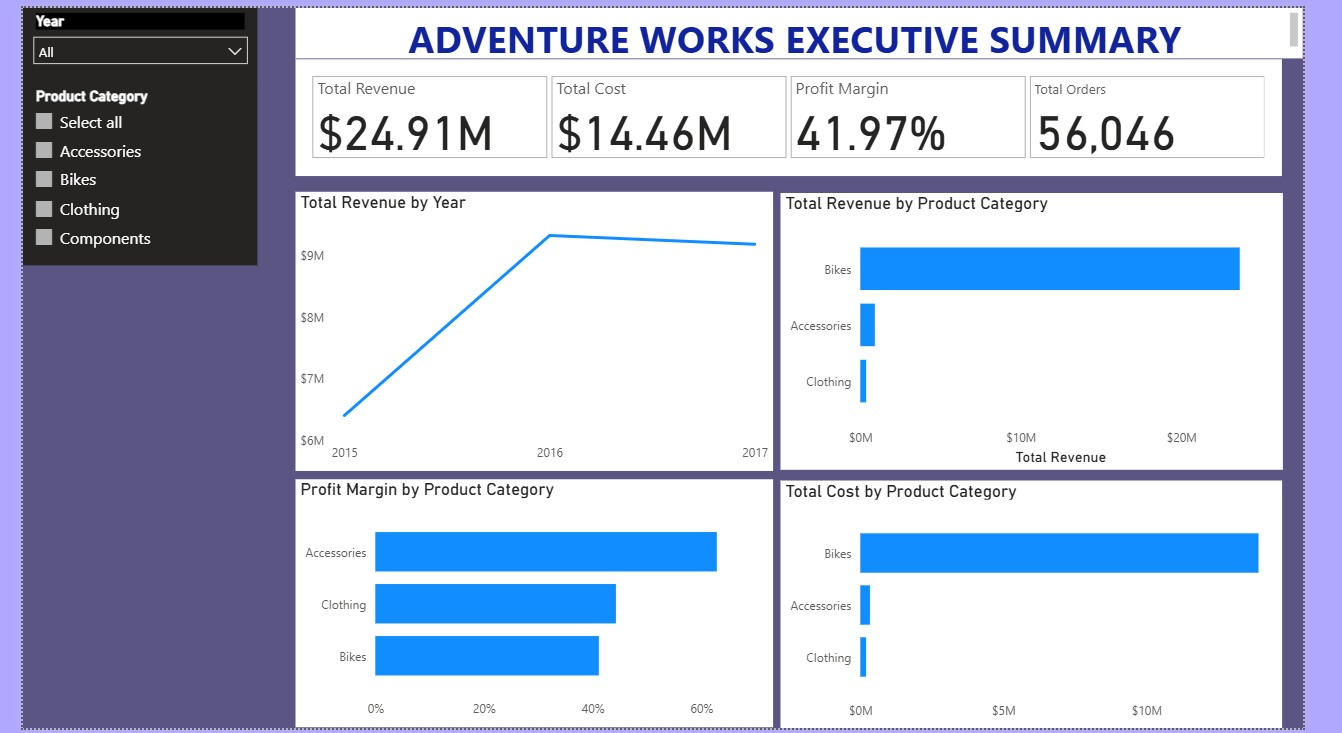

This screenshot's page, from the dashboard's own definition file:
{"tool":"powerbi","page":{"name":"Overview","canvas":[1280,720],"ordinal":0},"visuals":[{"type":"lineChart","fields":{"Y":["_Measures.Total Revenue"],"Category":["Dim_Date.Year"]},"box":[272.6,183.9,477.4,279],"z":0},{"type":"clusteredBarChart","title":"Total Revenue by Product Category","fields":{"Y":["_Measures.Total Revenue"],"Category":["Products.CategoryName"]},"box":[757.5,185.2,502.2,277.2],"z":1000},{"type":"clusteredBarChart","title":"Profit Margin by Product Category","fields":{"Y":["_Measures.Profit Margin"],"Category":["Products.CategoryName"]},"box":[272.6,471,477.4,248.4],"z":2000},{"type":"clusteredBarChart","title":"Total Cost by Product Category","fields":{"Y":["_Measures.Total Cost"],"Category":["Products.CategoryName"]},"box":[758.1,472.6,501.6,248.4],"z":3000},{"type":"textbox","box":[273.1,0,1007.2,50.8],"z":4000},{"type":"slicer","fields":{"Values":["Dim_Date.Year"]},"box":[0,0,234.6,75.5],"z":5000},{"type":"slicer","fields":{"Values":["Products.CategoryName"]},"box":[0,75.5,234.6,182.5],"z":6000},{"type":"cardVisual","fields":{"Data":["_Measures.Total Revenue","_Measures.Total Cost","_Measures.Profit Margin","_Measures.Total Orders"]},"box":[273.1,50.8,986.6,116.6],"z":10001}]}

Visuals, with their boxes in screenshot pixels (x1, y1, x2, y2), scaled from the page's 1280x720 canvas onto the 1342x733 screenshot:
lineChart - _Measures.Total Revenue x Dim_Date.Year: 286 187 786 471
"Total Revenue by Product Category" clusteredBarChart: 794 189 1321 471
"Profit Margin by Product Category" clusteredBarChart: 286 480 786 732
"Total Cost by Product Category" clusteredBarChart: 795 481 1321 732
textbox: 286 0 1341 52
slicer - Dim_Date.Year: 0 0 246 77
slicer - Products.CategoryName: 0 77 246 263
cardVisual - _Measures.Total Revenue x _Measures.Total Cost: 286 52 1321 170
